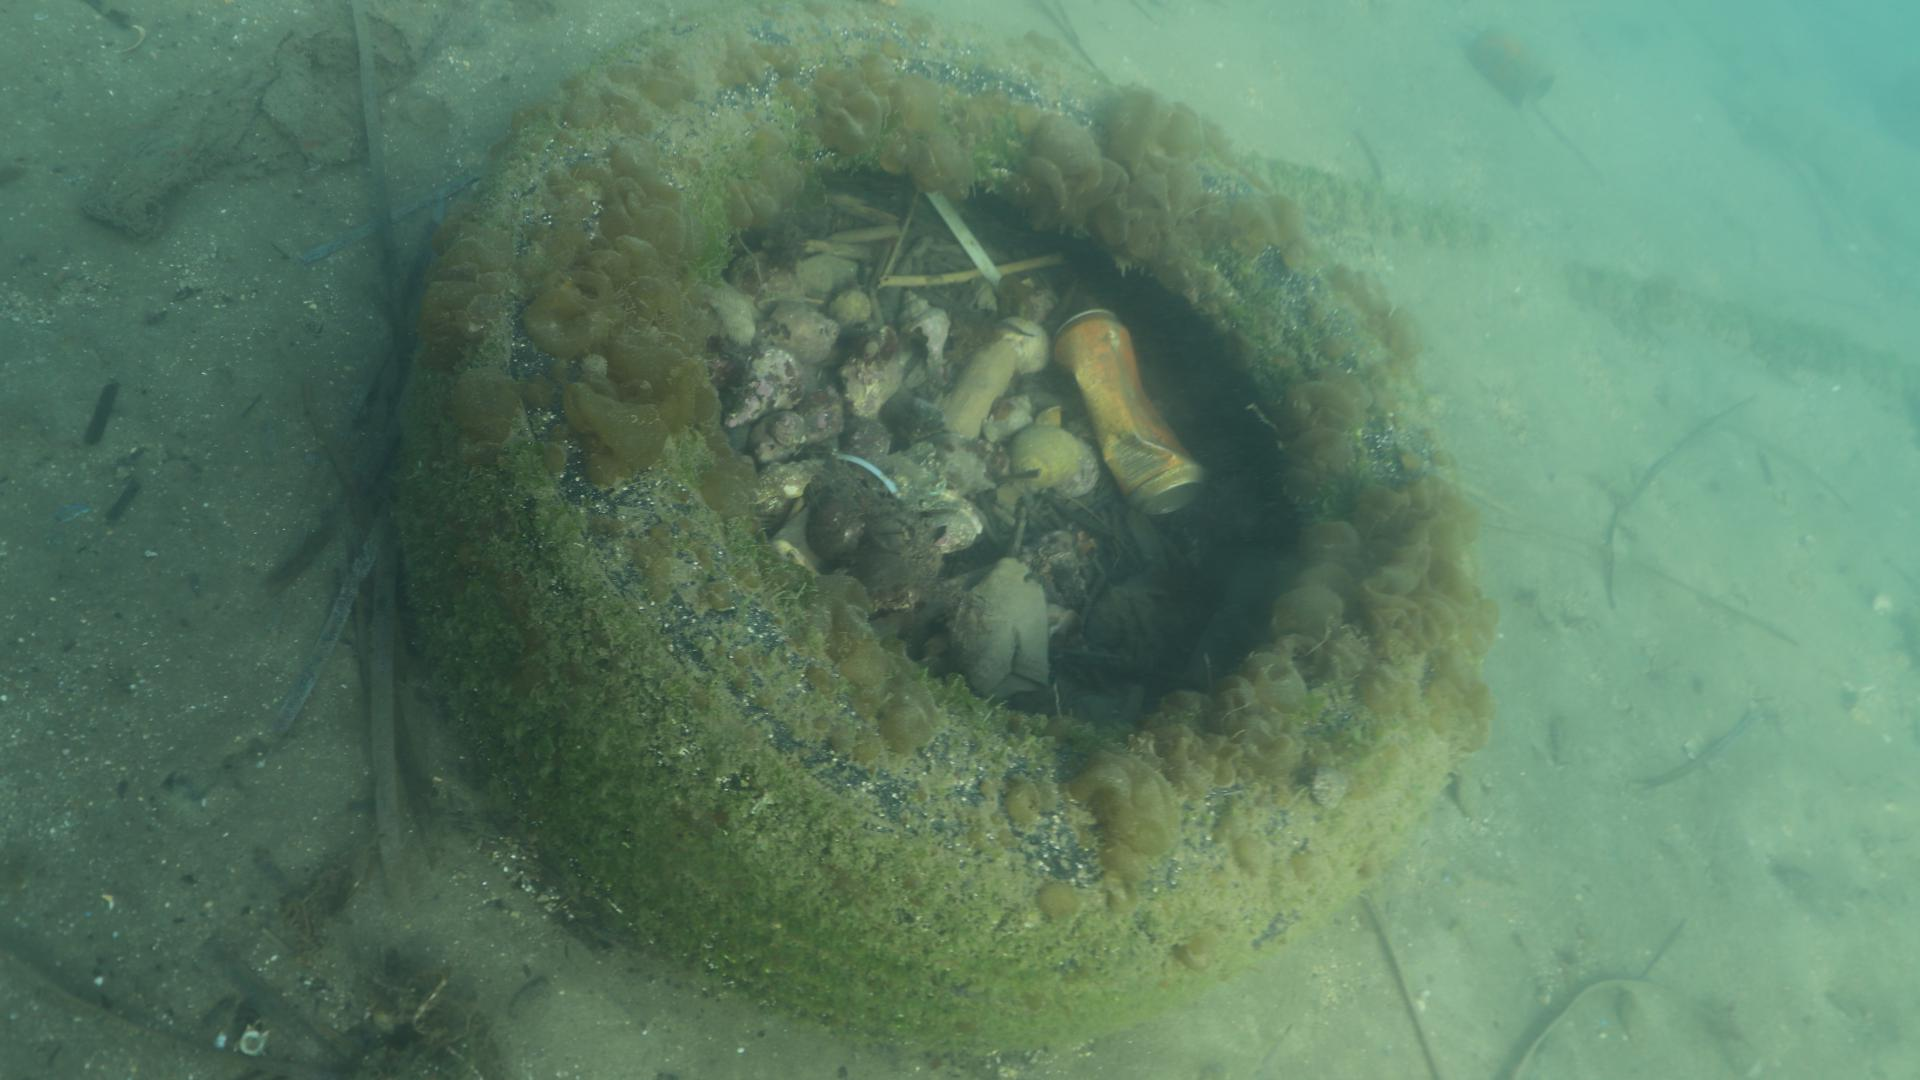tire: (382, 0, 1480, 1044)
